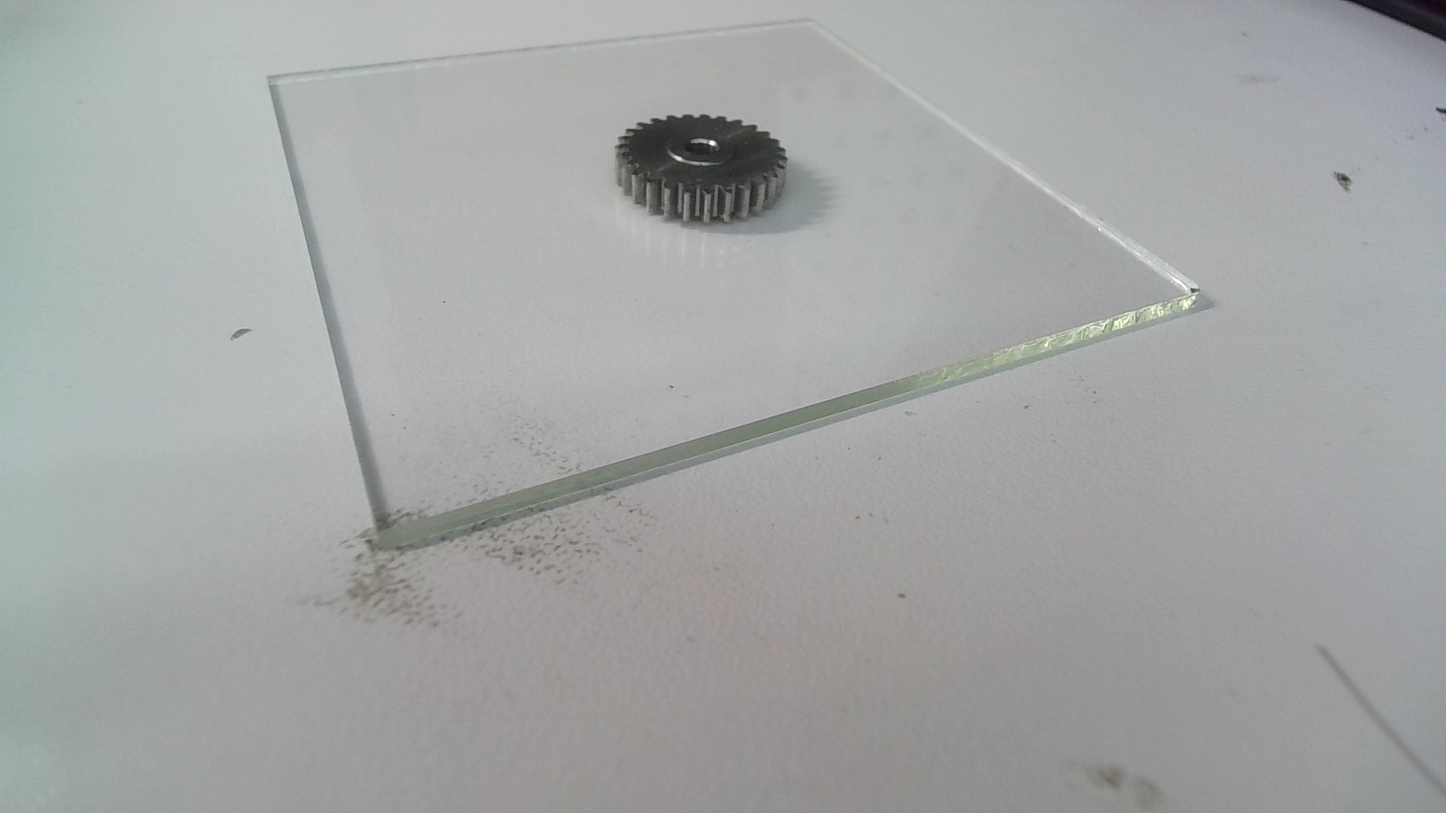gear: (611, 110, 791, 228)
